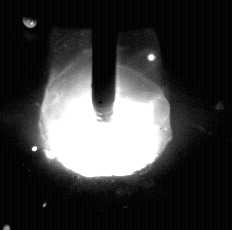arame: (92, 0, 117, 122)
poca: (38, 0, 171, 230)
